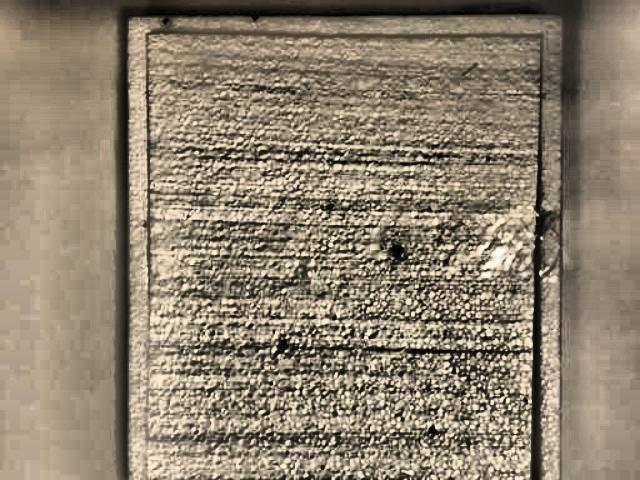Plastic: (72, 9, 590, 480)
